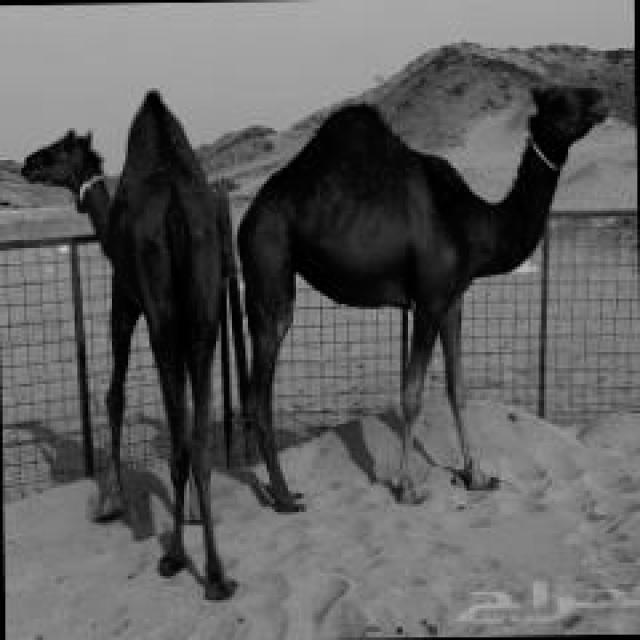Camel: (235, 80, 608, 512), (19, 88, 245, 600)
